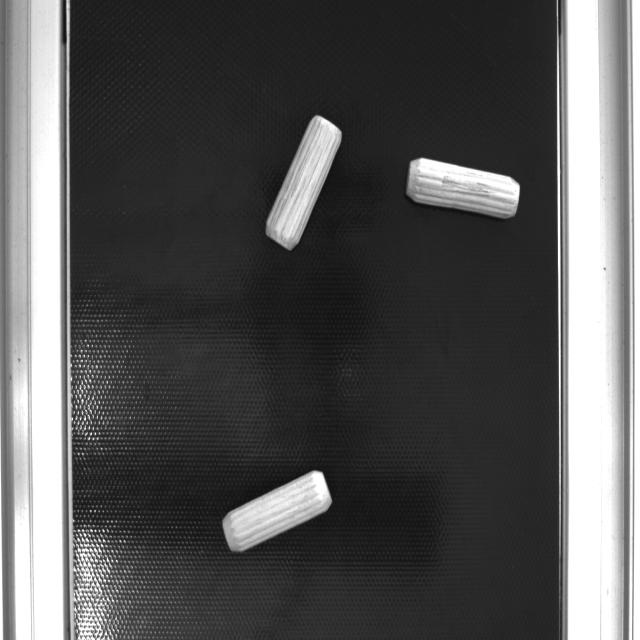Chot go: (261, 113, 344, 253), (219, 466, 335, 557), (401, 154, 522, 222)
